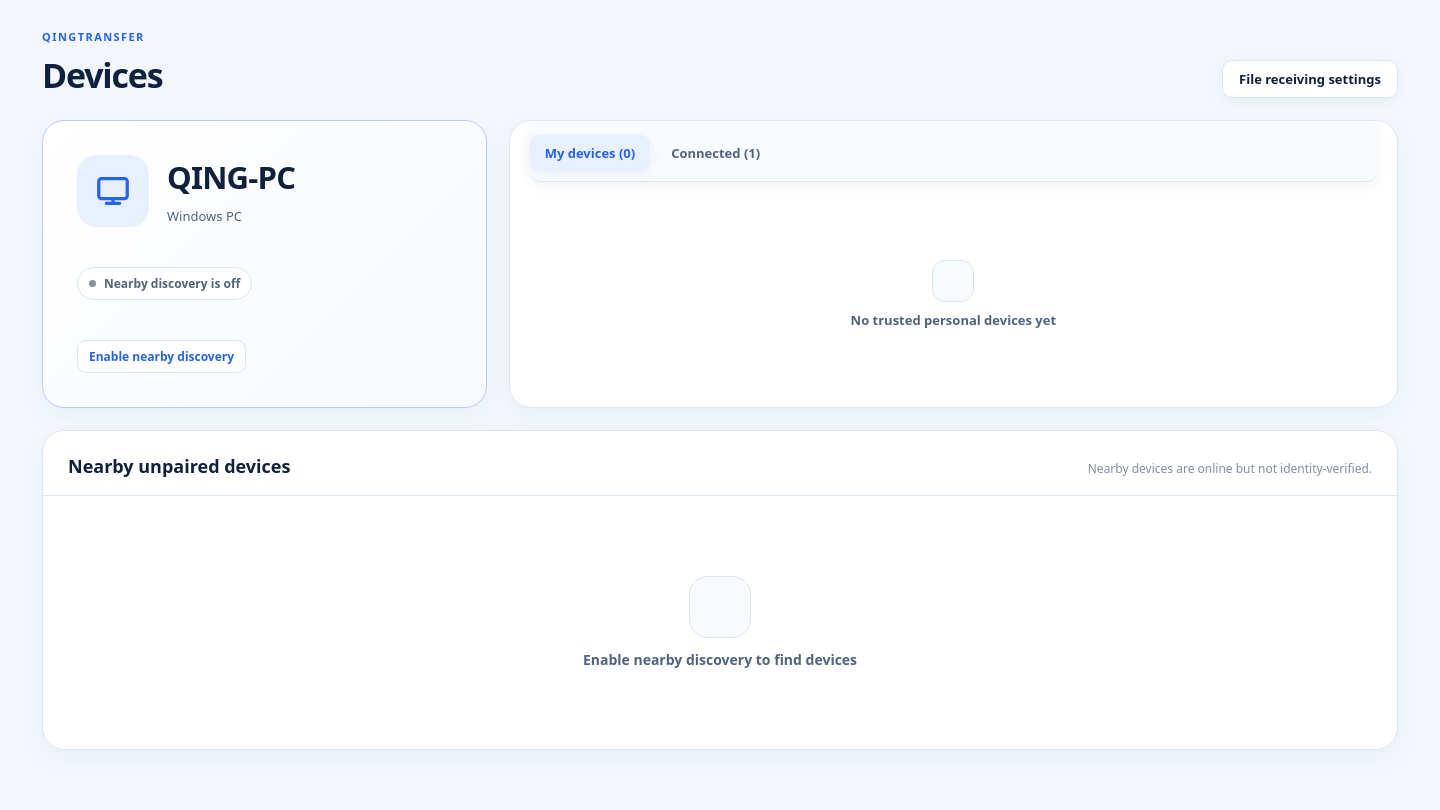
Test: DevicesPage › saves a local remark for an offline Connected device using the project input modal
Click the tab with id "device-tab-connected": (716,153) [656,135,775,171]
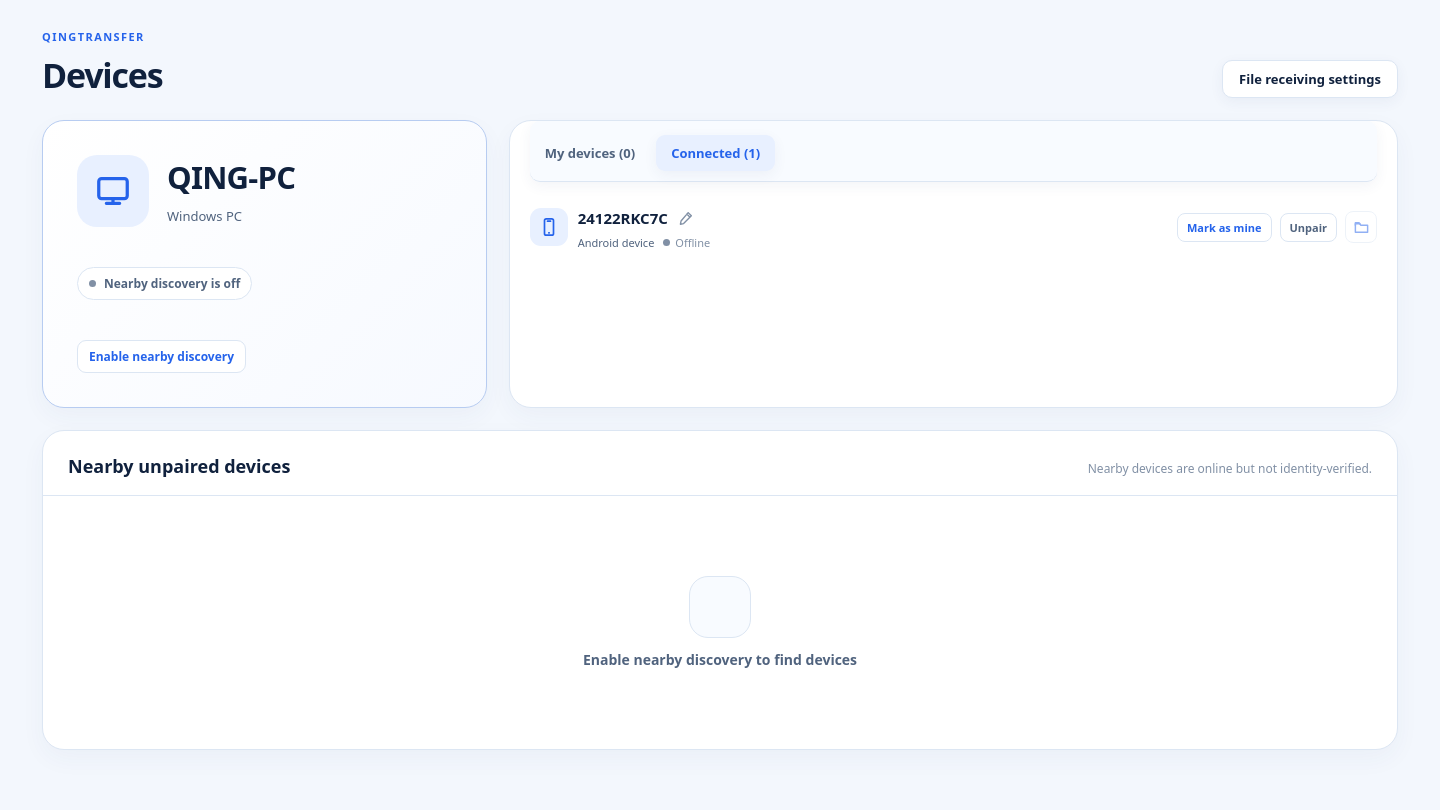
Expected: the button with class "devices-remark-action" is enabled
Click the button with class "devices-remark-action": (686,218) [673,205,700,232]
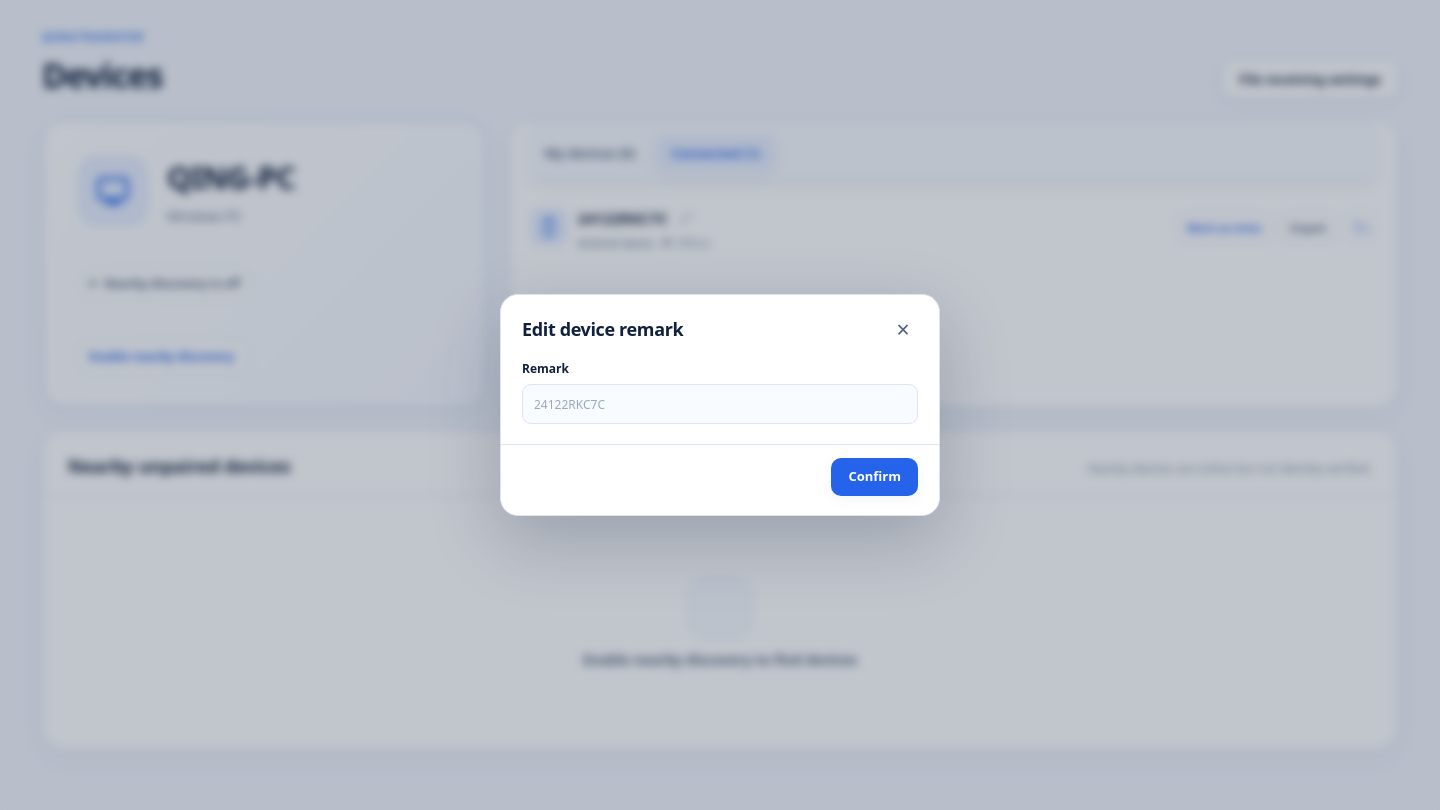
Expected: the heading "Edit device remark" is shown, [522,317,683,341]
Expected: the field labelled "Remark" is empty
In the field labelled "Remark": (720,404) [522,384,918,424], type "  QingMo的设备  "
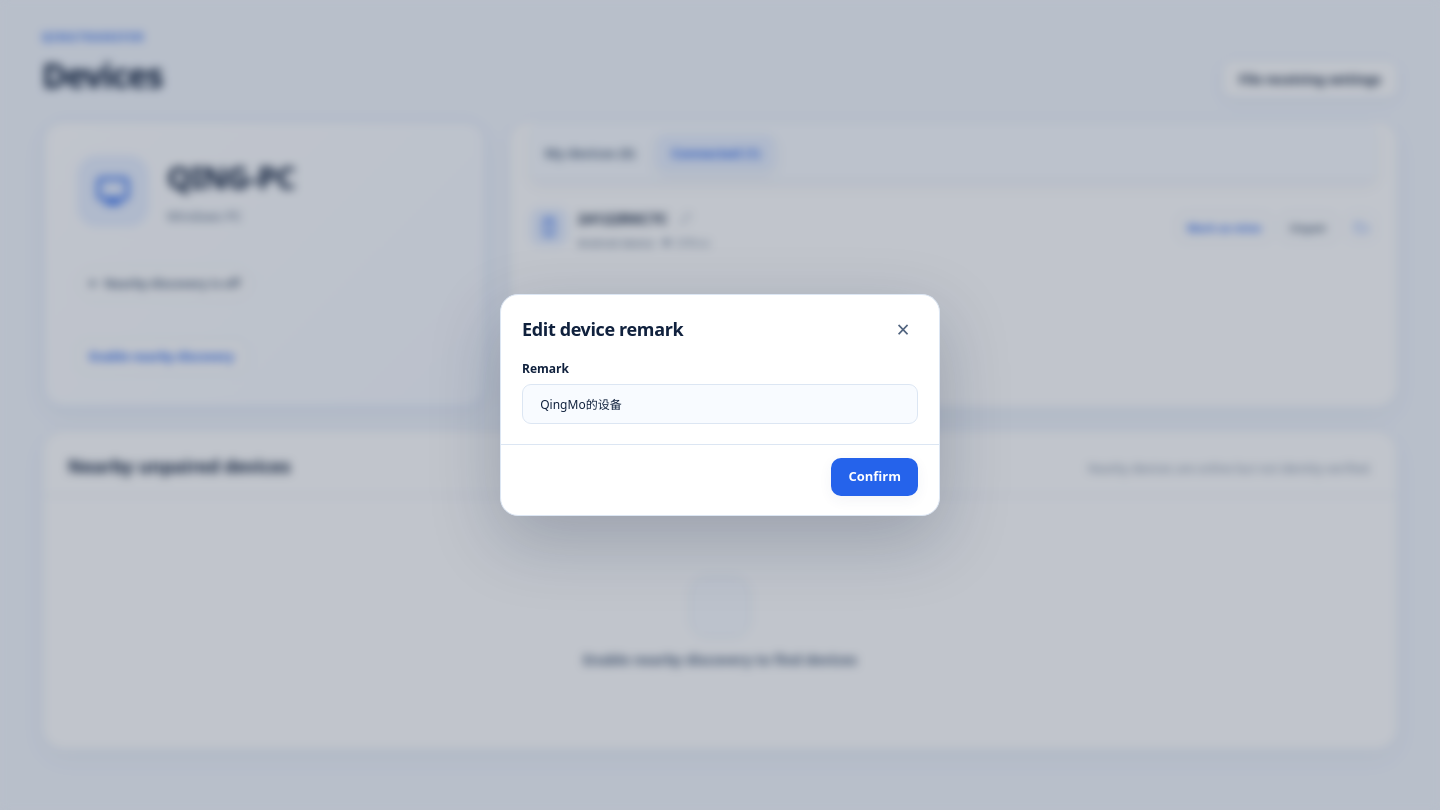
Click the button "Confirm": (875,477) [832,458,918,496]
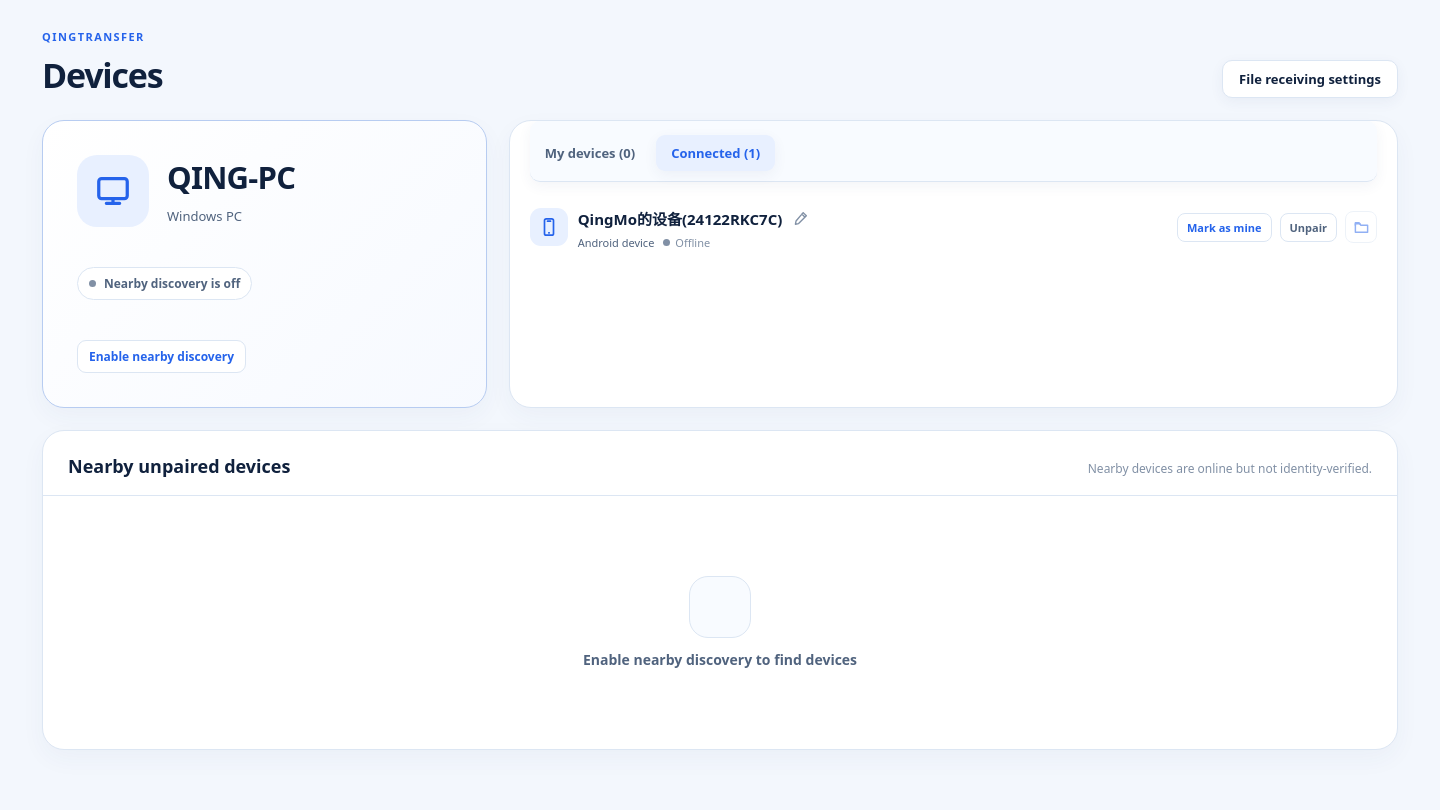
Expected: the text "QingMo的设备(24122RKC7C)" is shown, [578,208,782,229]
Expected: the dialog is gone
